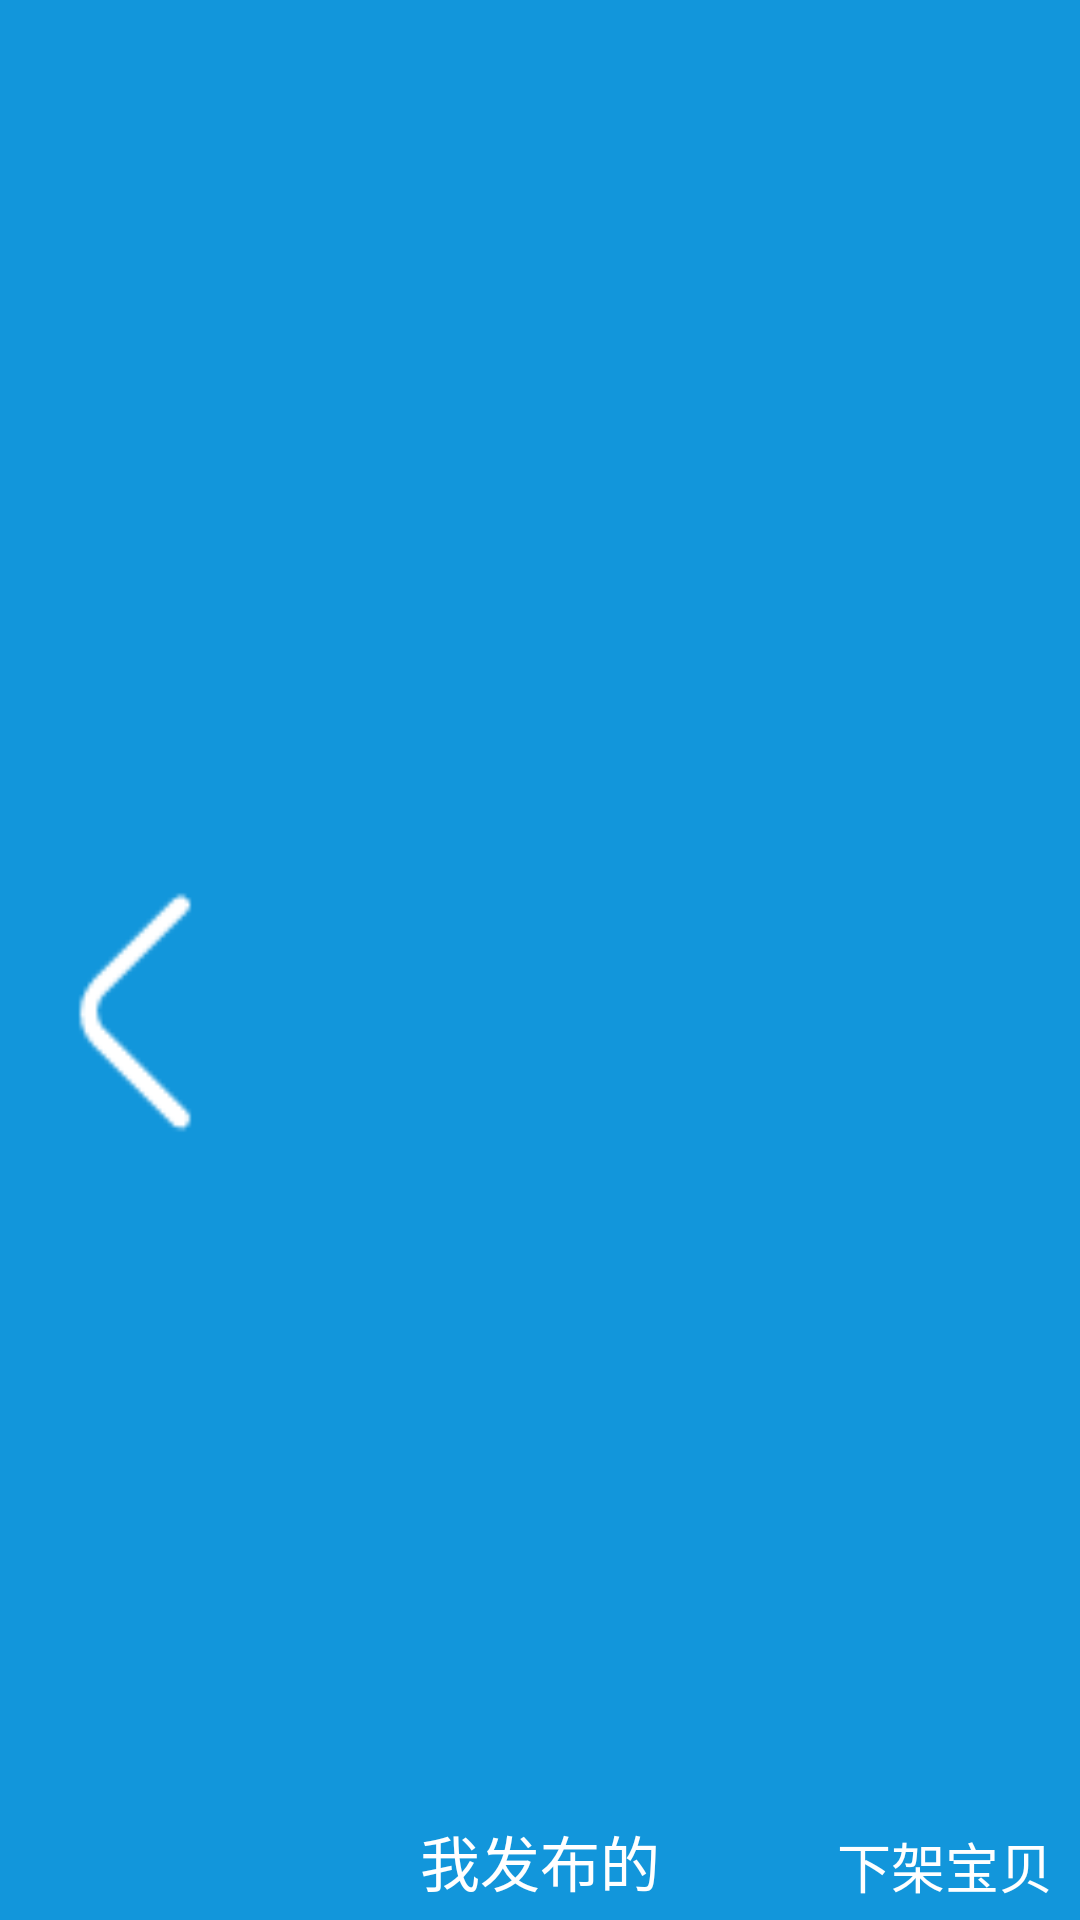

Icons on this 1080×1920 Android screen, each with the point to tap as point (x, y):
publish back: point (135, 1012)
